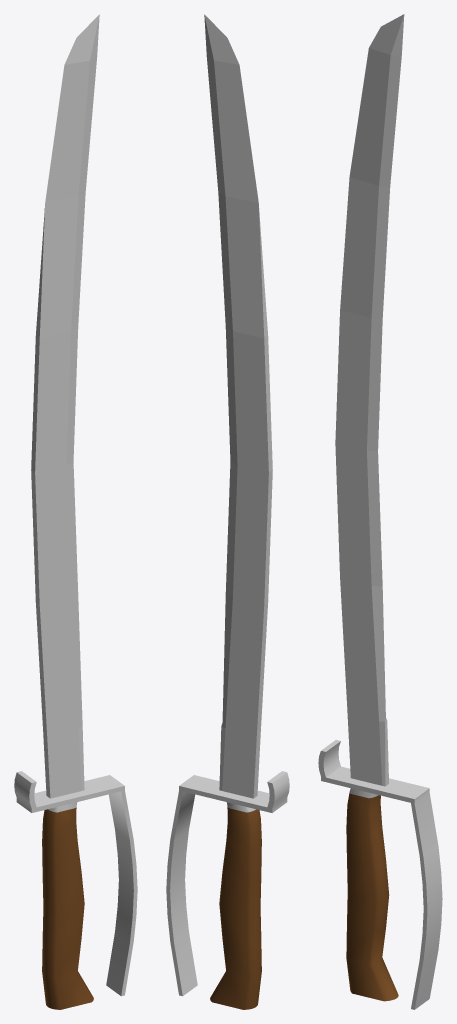
The model's file is Ginunting.fbx.
3 views of the same model, side by side, from view 1: azimuth 30°, elevation 25°; view 2: azimuth 150°, elevation 25°; view 3: azimuth 330°, elevation 25° (orthographic).
Parts seen in each view (by area): view 1: Ginunting; view 2: Ginunting; view 3: Ginunting.
Part boxes in pixels (bbox=[...]): Ginunting: bbox=[14, 14, 137, 1009]; Ginunting: bbox=[166, 14, 289, 1009]; Ginunting: bbox=[318, 14, 442, 1009].
Size of the model in its own units: 23.15 by 200 by 5.54.
